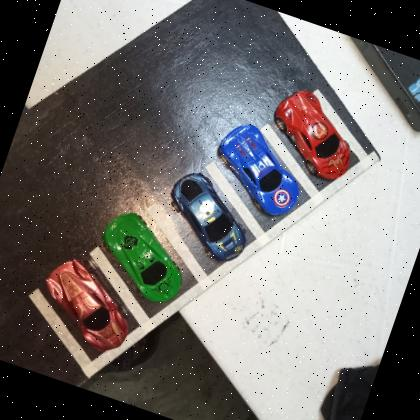Car: (28, 248, 146, 358), (203, 116, 316, 224), (86, 205, 199, 310), (154, 166, 264, 270), (258, 82, 368, 186)
